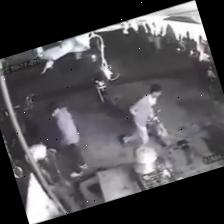person: (49, 103, 86, 178), (129, 84, 161, 144)
